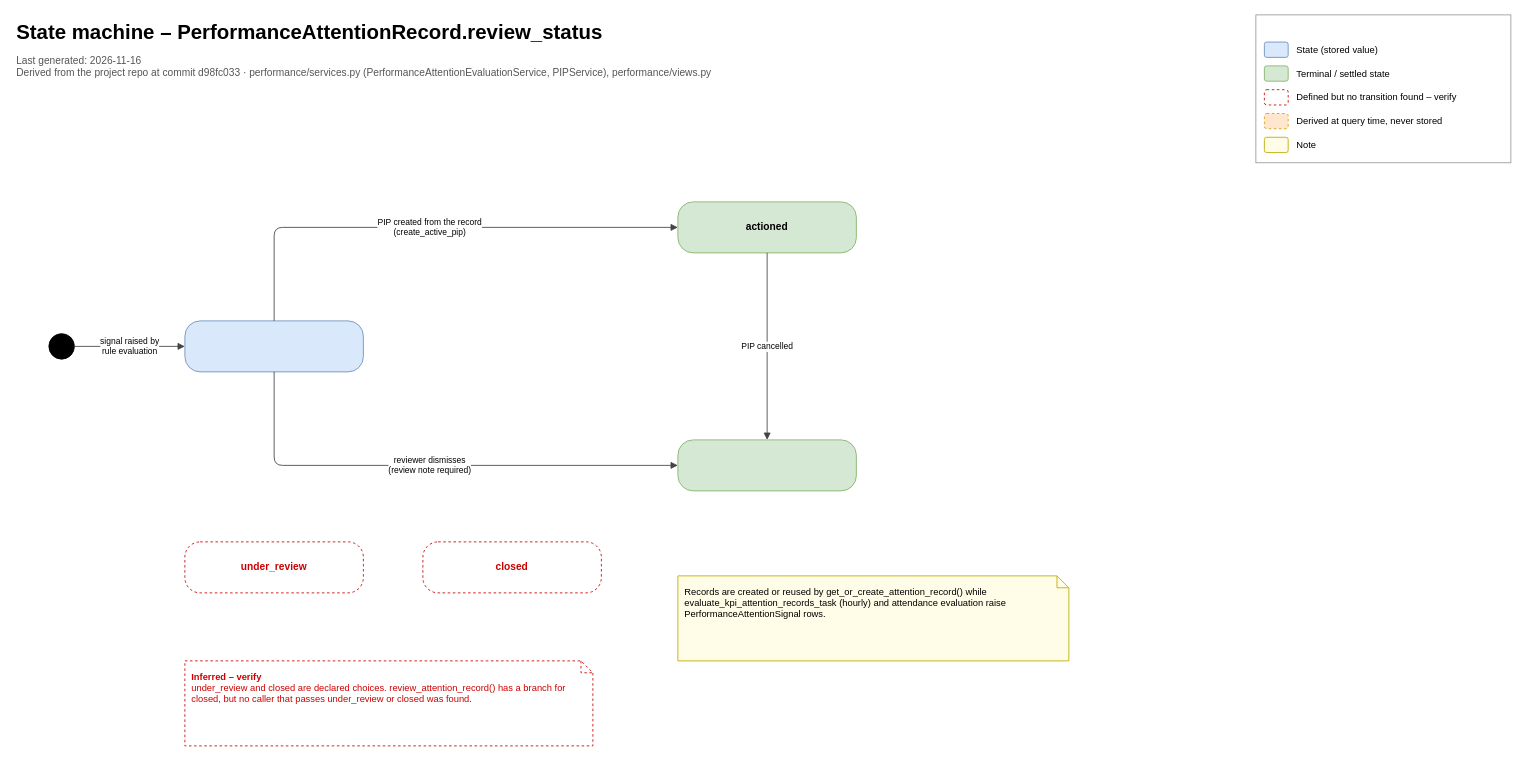
Some shapes in this 1526 by 761 pixel diagram are drawn without their labels. Each missing label, with the box of its shape:
dismissed: (677, 439, 856, 491)
Legend: (1255, 14, 1511, 163)
pending: (184, 320, 363, 372)
